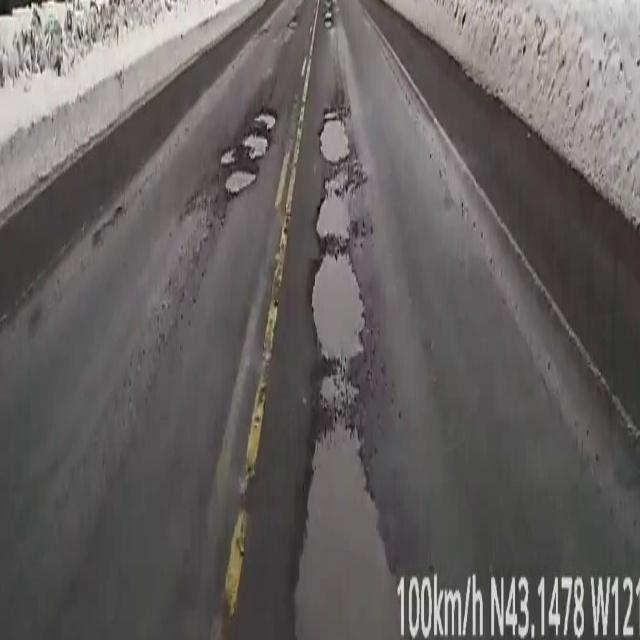pothole: (312, 110, 362, 370), (295, 512, 398, 597), (222, 111, 275, 196), (322, 378, 345, 406), (324, 0, 334, 29)
